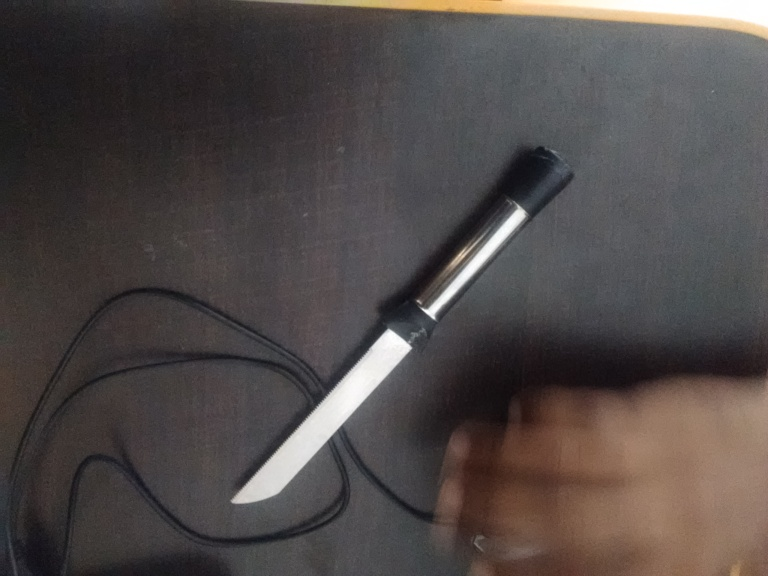knife: (228, 147, 580, 505)
